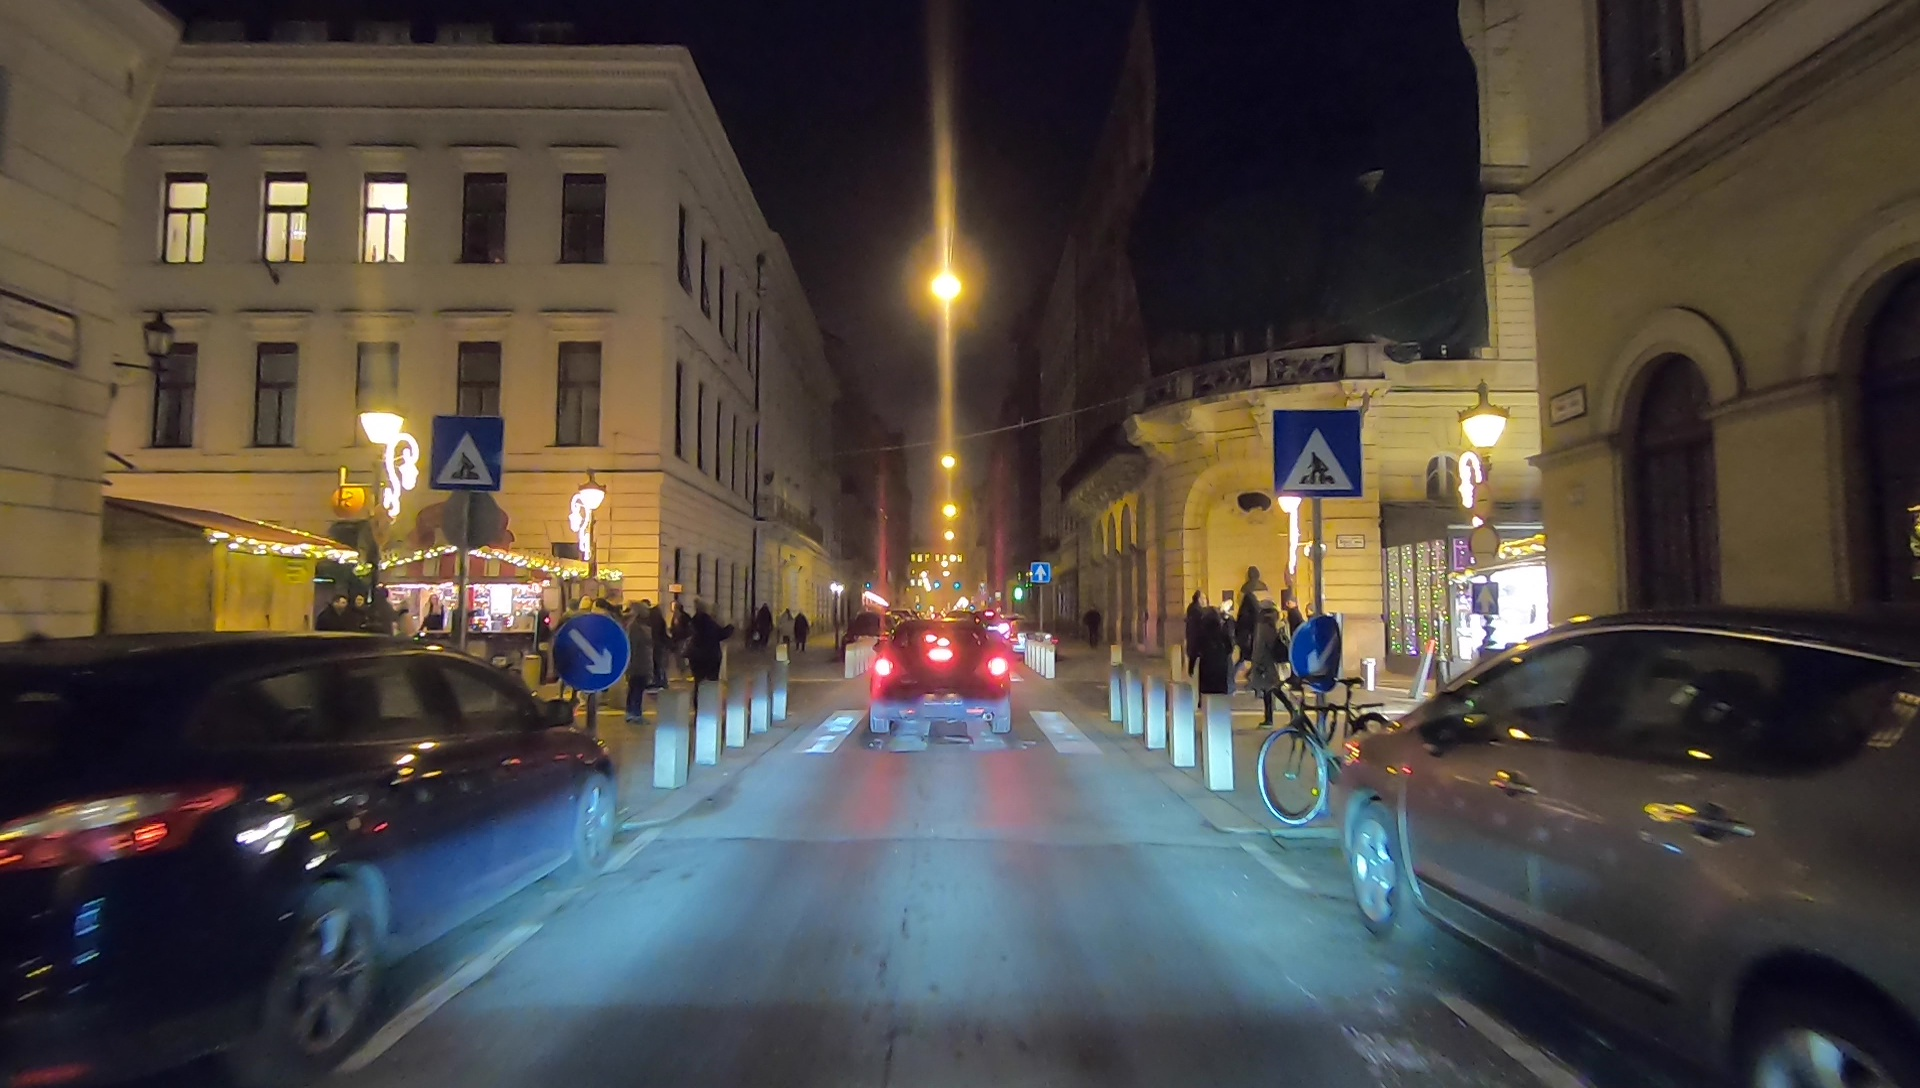person: (1251, 599, 1295, 726), (1197, 611, 1234, 724), (686, 602, 725, 700), (628, 604, 656, 724), (752, 604, 775, 660), (1082, 610, 1104, 645), (795, 613, 808, 652)
